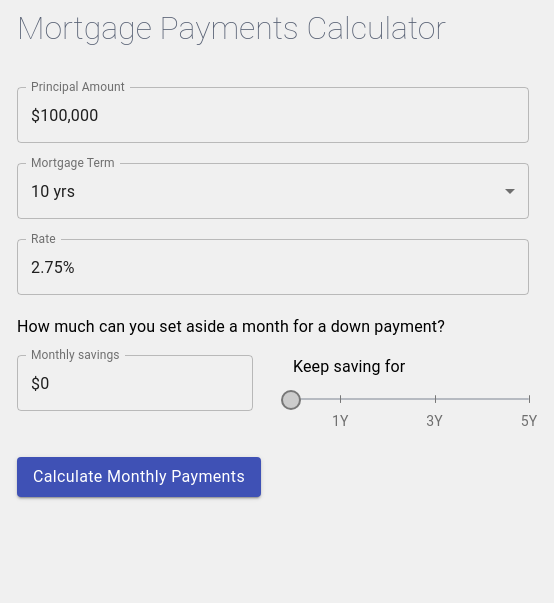
Scenario: CalculatorApp › calculates monthly payment for updated principal
Replace the text in the field labelled "Principal Amount" with "$200000" at point(273, 115), box [17, 87, 529, 143]
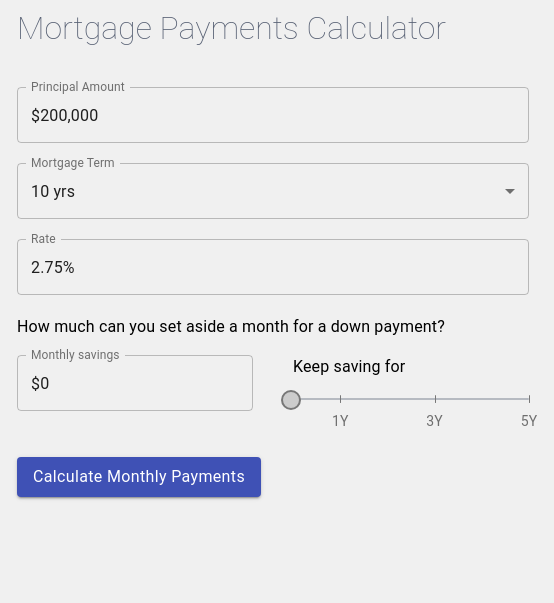
Click the button "Calculate Monthly Payments" at point(139, 477), box [17, 457, 261, 497]
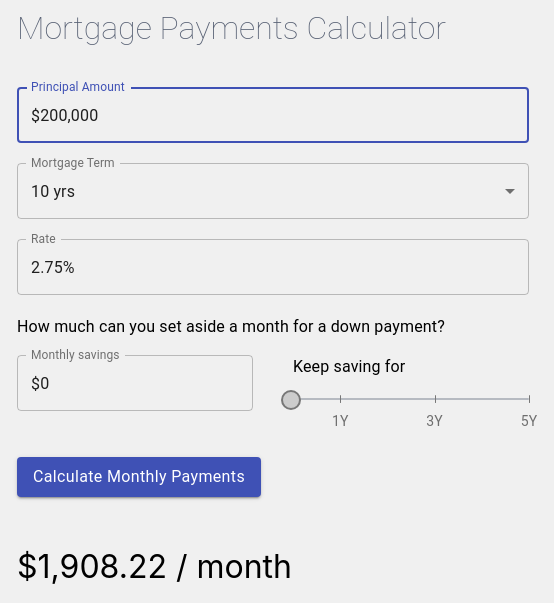
Check: the text "$1,908.22" is shown, box [17, 547, 167, 586]
